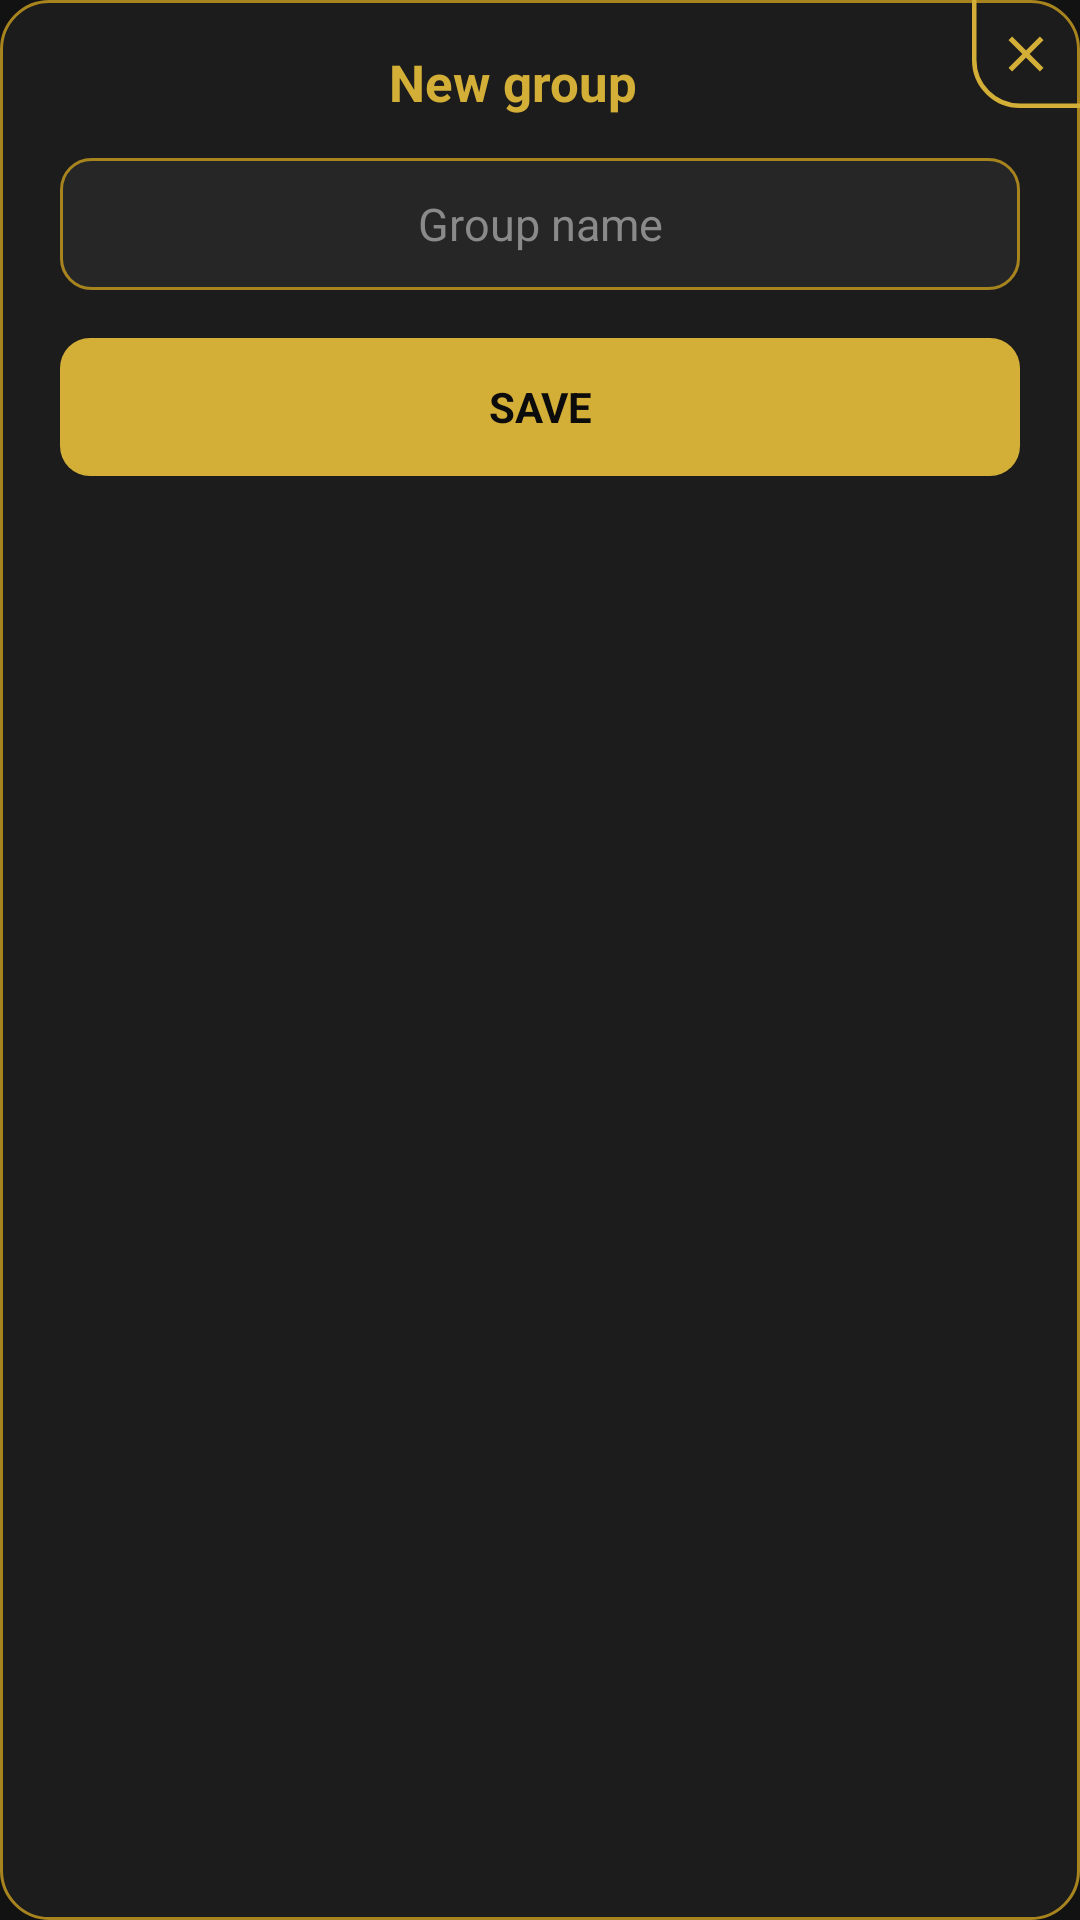

Icon bounding boxes for this 1080px x 1920px phone screenshot, format {"left": x1, "top": y1, "right": x2, "bottom": y2}:
Close: {"left": 972, "top": 0, "right": 1080, "bottom": 108}
